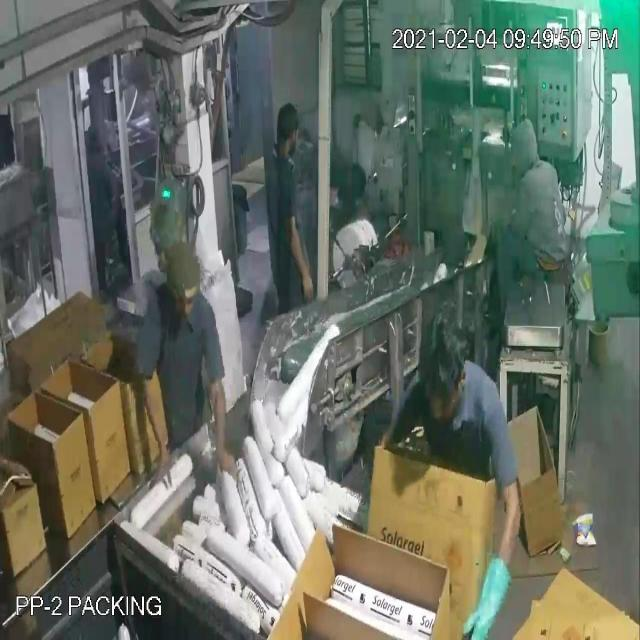No_Gloves: (41, 95, 486, 592)
